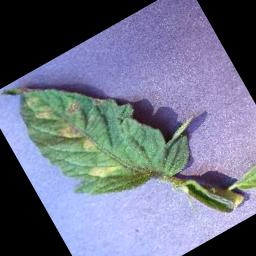Leaf_Mold: (86, 152, 125, 185), (52, 115, 86, 149), (31, 99, 59, 126), (79, 134, 101, 156), (63, 97, 83, 116)
